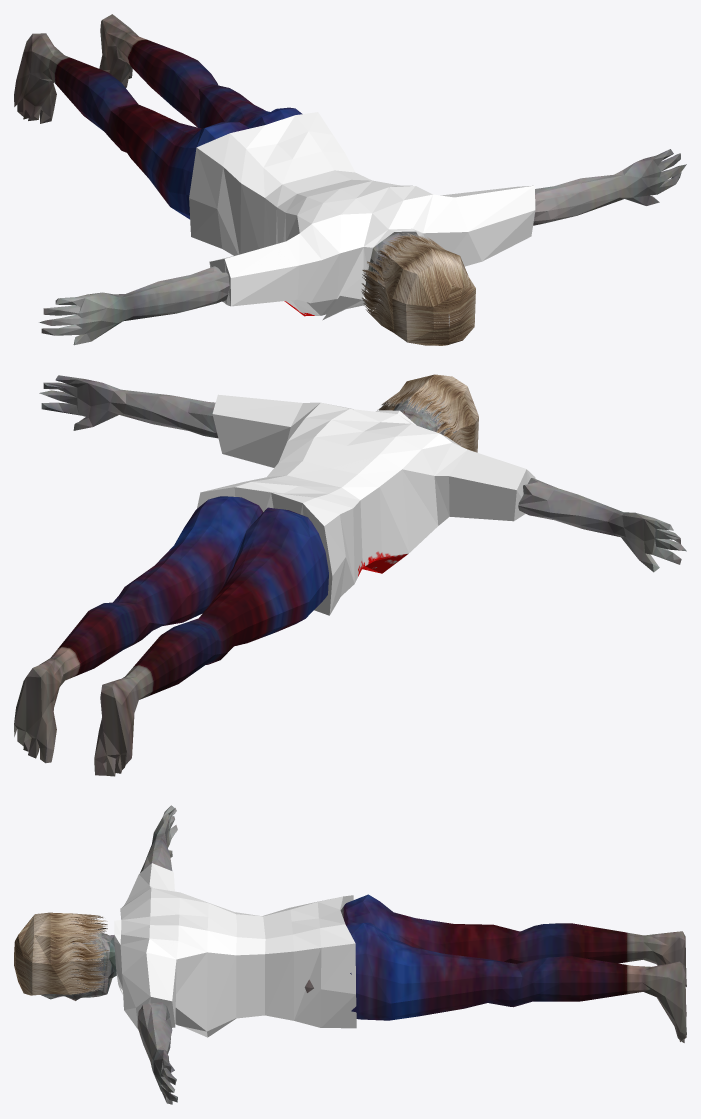
The model's file is zombiechick_alt2_wtf.obj.
3 views of the same model, one above another, from view 1: azimuth 30°, elevation 25°; view 2: azimuth 150°, elevation 25°; view 3: azimuth 270°, elevation 25° (orthographic). The views are drawn at different scales.
Parts seen in each view (by area): view 1: group1, group4, group5; view 2: group4, group1, group5, group2; view 3: group4, group1, group5, group2, group3.
Boxes of the visible parts, bbox=[...] form: group1: bbox=[189, 112, 535, 320]; group4: bbox=[14, 14, 686, 345]; group5: bbox=[361, 233, 475, 345]; group4: bbox=[14, 375, 686, 776]; group1: bbox=[197, 394, 535, 615]; group5: bbox=[378, 374, 478, 452]; group2: bbox=[393, 386, 460, 444]; group4: bbox=[106, 805, 686, 1104]; group1: bbox=[114, 863, 356, 1037]; group5: bbox=[14, 912, 109, 995]; group2: bbox=[68, 921, 114, 988]; group3: bbox=[40, 932, 112, 1000].
Size of the model in its own units: 643 by 127 by 660.
